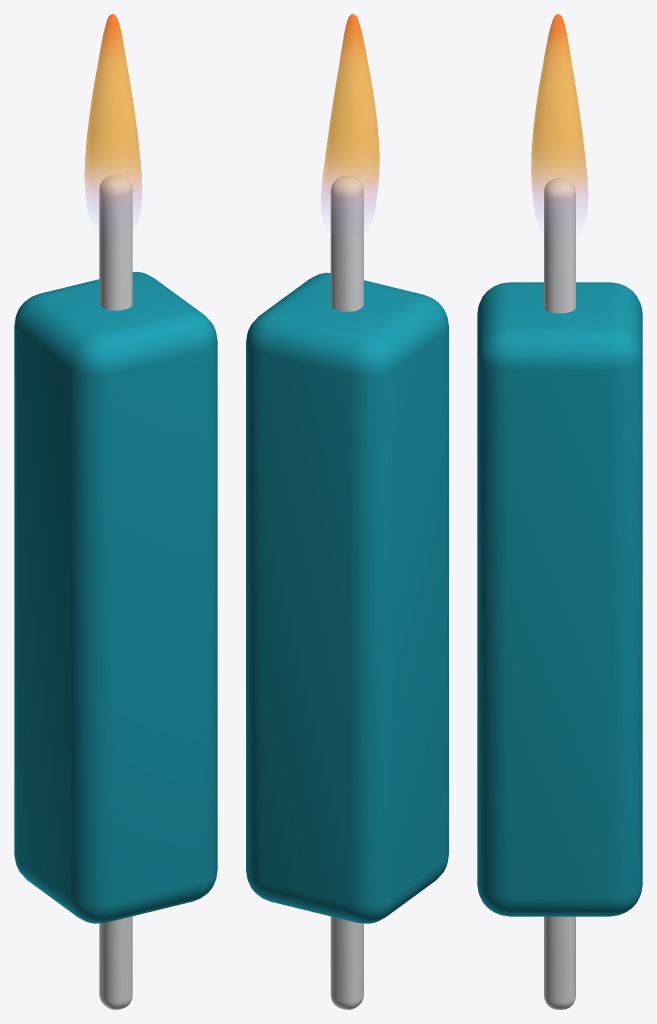
File: JapaneseCandle.glb
3 views of the same model, side by side, from view 1: azimuth 30°, elevation 25°; view 2: azimuth 150°, elevation 25°; view 3: azimuth 270°, elevation 25° (orthographic).
Visible parts, largest first — view 1: XBase.001, Flame, XRope01.001; view 2: XBase.001, Flame, XRope01.001; view 3: XBase.001, Flame, XRope01.001.
Boxes of the visible parts, x1,y1,x2,y2 form: XBase.001: [14, 271, 217, 923]; Flame: [84, 14, 142, 219]; XRope01.001: [99, 175, 132, 1009]; XBase.001: [246, 272, 448, 923]; Flame: [321, 14, 379, 221]; XRope01.001: [330, 176, 363, 1009]; XBase.001: [477, 282, 642, 916]; Flame: [531, 14, 588, 224]; XRope01.001: [544, 178, 575, 1009].
Size of the model in its own units: 0.3674 by 2.43 by 0.3674.
Materials: 3 (1 with a texture image).
